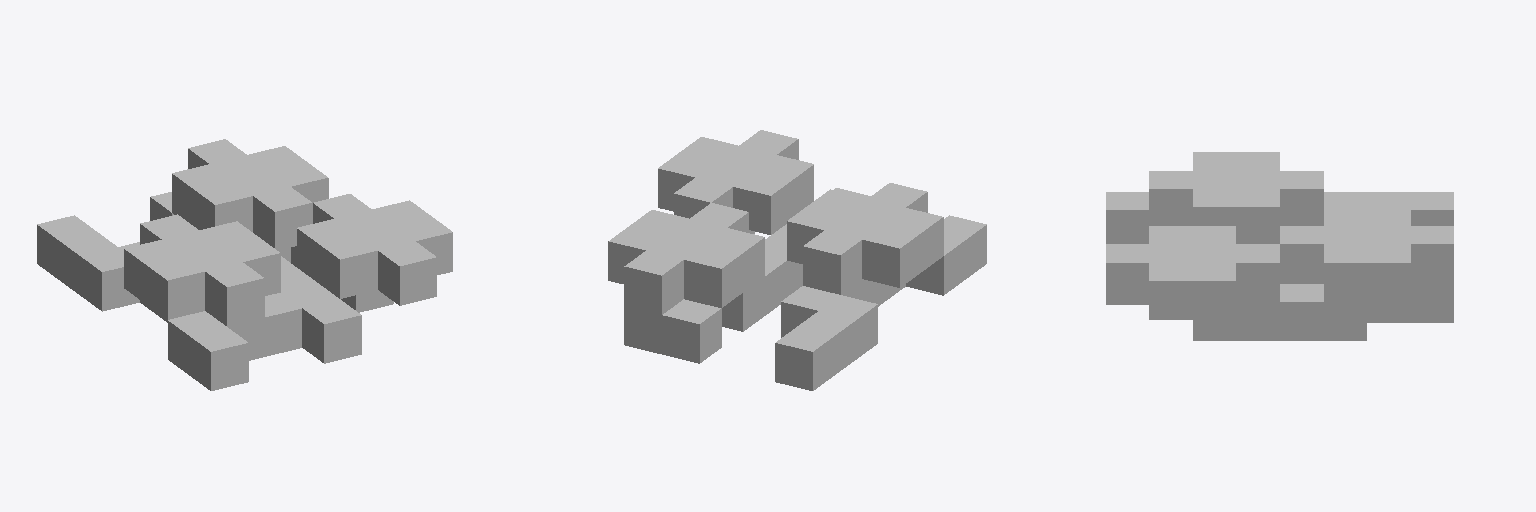
Rendered from vines1-0.obj.
3 renders of one model, left to right at view 1: azimuth 30°, elevation 25°; view 2: azimuth 150°, elevation 25°; view 3: azimuth 270°, elevation 25°, orthographic.
Visible parts, largest first — view 1: object 1; view 2: object 1; view 3: object 1.
Part boxes in pixels (x1,y1,x2,y2): object 1: (37,139,452,390); object 1: (608,130,986,390); object 1: (1106,152,1453,340).
Bounding box in the file's own units: 0.7 × 0.2 × 0.8.